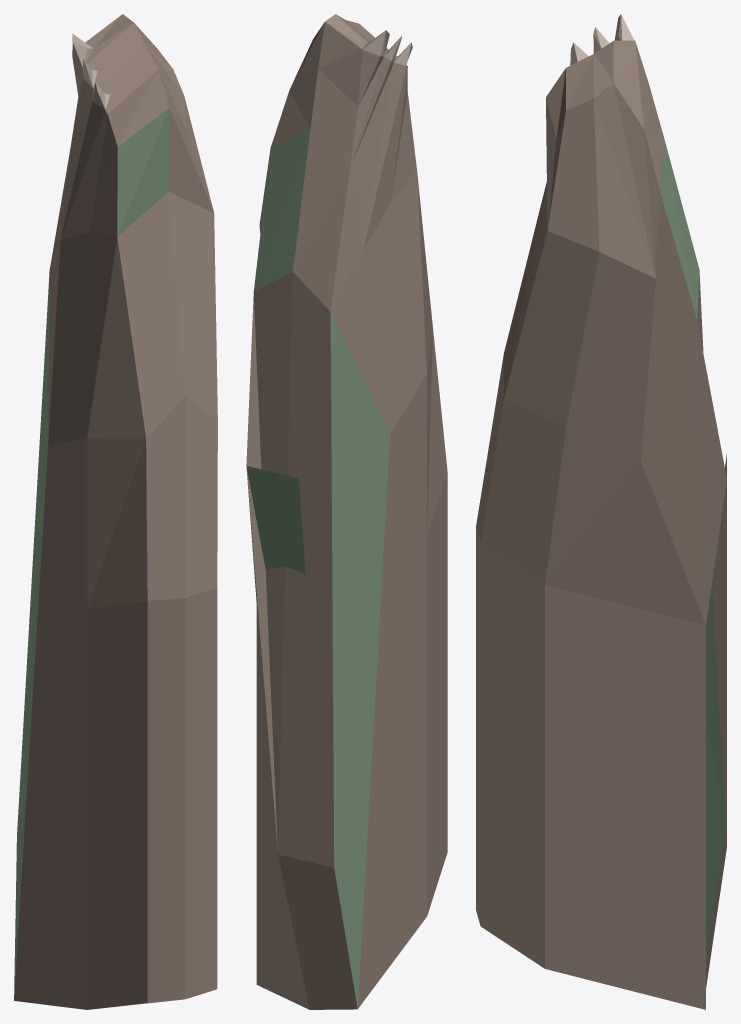
The model's file is left_arm.fbx.
3 views of the same model, side by side, from view 1: azimuth 30°, elevation 25°; view 2: azimuth 150°, elevation 25°; view 3: azimuth 270°, elevation 25° (orthographic). The views are drawn at different scales.
Parts seen in each view (by area): view 1: pasted__pCube6; view 2: pasted__pCube6; view 3: pasted__pCube6.
Boxes of the visible parts, bbox=[...] form: pasted__pCube6: bbox=[14, 14, 217, 1009]; pasted__pCube6: bbox=[246, 14, 447, 1009]; pasted__pCube6: bbox=[476, 14, 726, 1009].
Bounding box in the file's own units: 0.6505 × 4.76 × 1.12.
